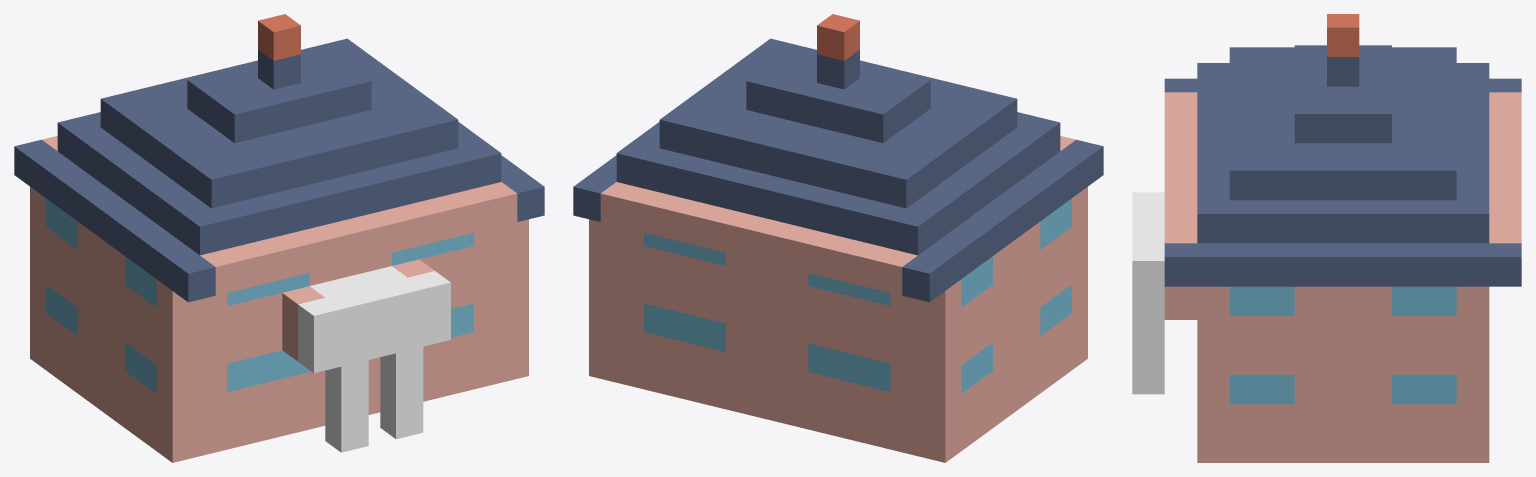
Rendered from house_2.glb.
The picture shows the model from 3 angles, left to right: view 1: azimuth 30°, elevation 25°; view 2: azimuth 150°, elevation 25°; view 3: azimuth 270°, elevation 25°; orthographic projection. The views are drawn at different scales.
Visible parts, largest first — view 1: house_2_roof_slate, house_2_wall_pink, house_2_white, house_2_window, house_2_brick; view 2: house_2_wall_pink, house_2_roof_slate, house_2_window, house_2_brick; view 3: house_2_roof_slate, house_2_wall_pink, house_2_window, house_2_white, house_2_brick.
Part boxes in pixels (x1,y1,x2,y2): house_2_roof_slate: (14,38,544,302); house_2_wall_pink: (30,136,528,462); house_2_white: (298,266,450,452); house_2_window: (46,198,473,393); house_2_brick: (258,14,300,60); house_2_wall_pink: (589,136,1087,462); house_2_roof_slate: (573,38,1103,302); house_2_window: (644,198,1071,393); house_2_brick: (817,14,859,60); house_2_roof_slate: (1164,45,1521,286); house_2_wall_pink: (1164,92,1521,462); house_2_window: (1229,286,1456,404); house_2_white: (1132,192,1164,394); house_2_brick: (1327,14,1359,56).
Bounding box in the file's own units: 10.54 × 9.73 × 9.73.
